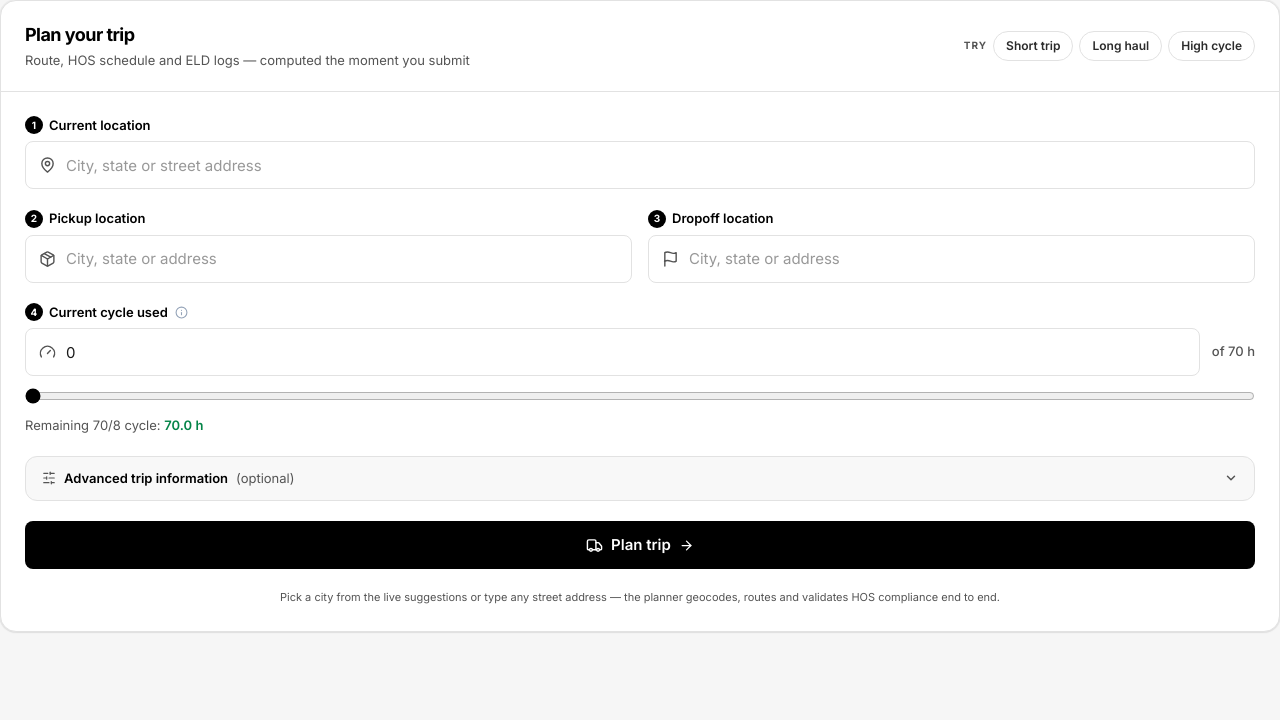
Test: TripPlannerForm — user-visible behavior › loads a demo trip into the form without submitting
The image size is (1280, 720).
Click the button "Short trip" at (1033, 46), box top-left (993, 31), bottom-right (1074, 61)
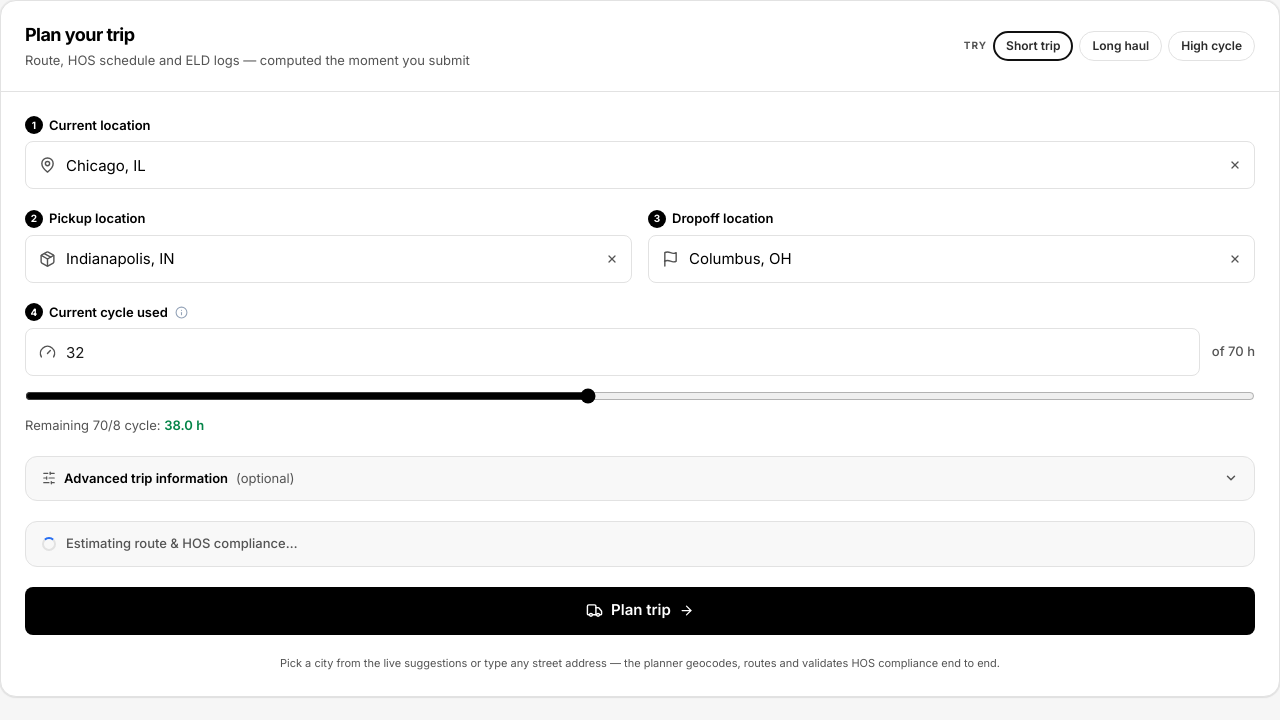
Now the dropdown labelled "1 Current location" holds "Chicago, IL", box top-left (25, 141), bottom-right (1255, 189)
Now the dropdown labelled "2 Pickup location" holds "Indianapolis, IN", box top-left (25, 234), bottom-right (632, 282)
Now the dropdown labelled "3 Dropoff location" holds "Columbus, OH", box top-left (648, 234), bottom-right (1255, 282)
